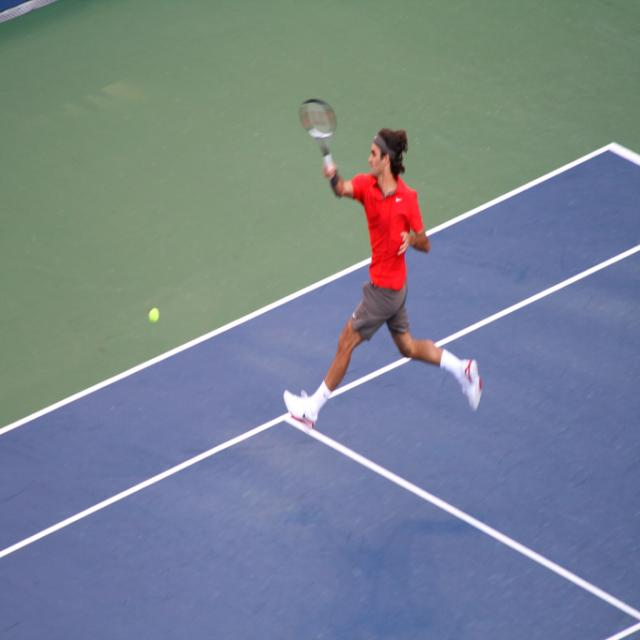Tennis ball: (149, 308, 158, 322)
